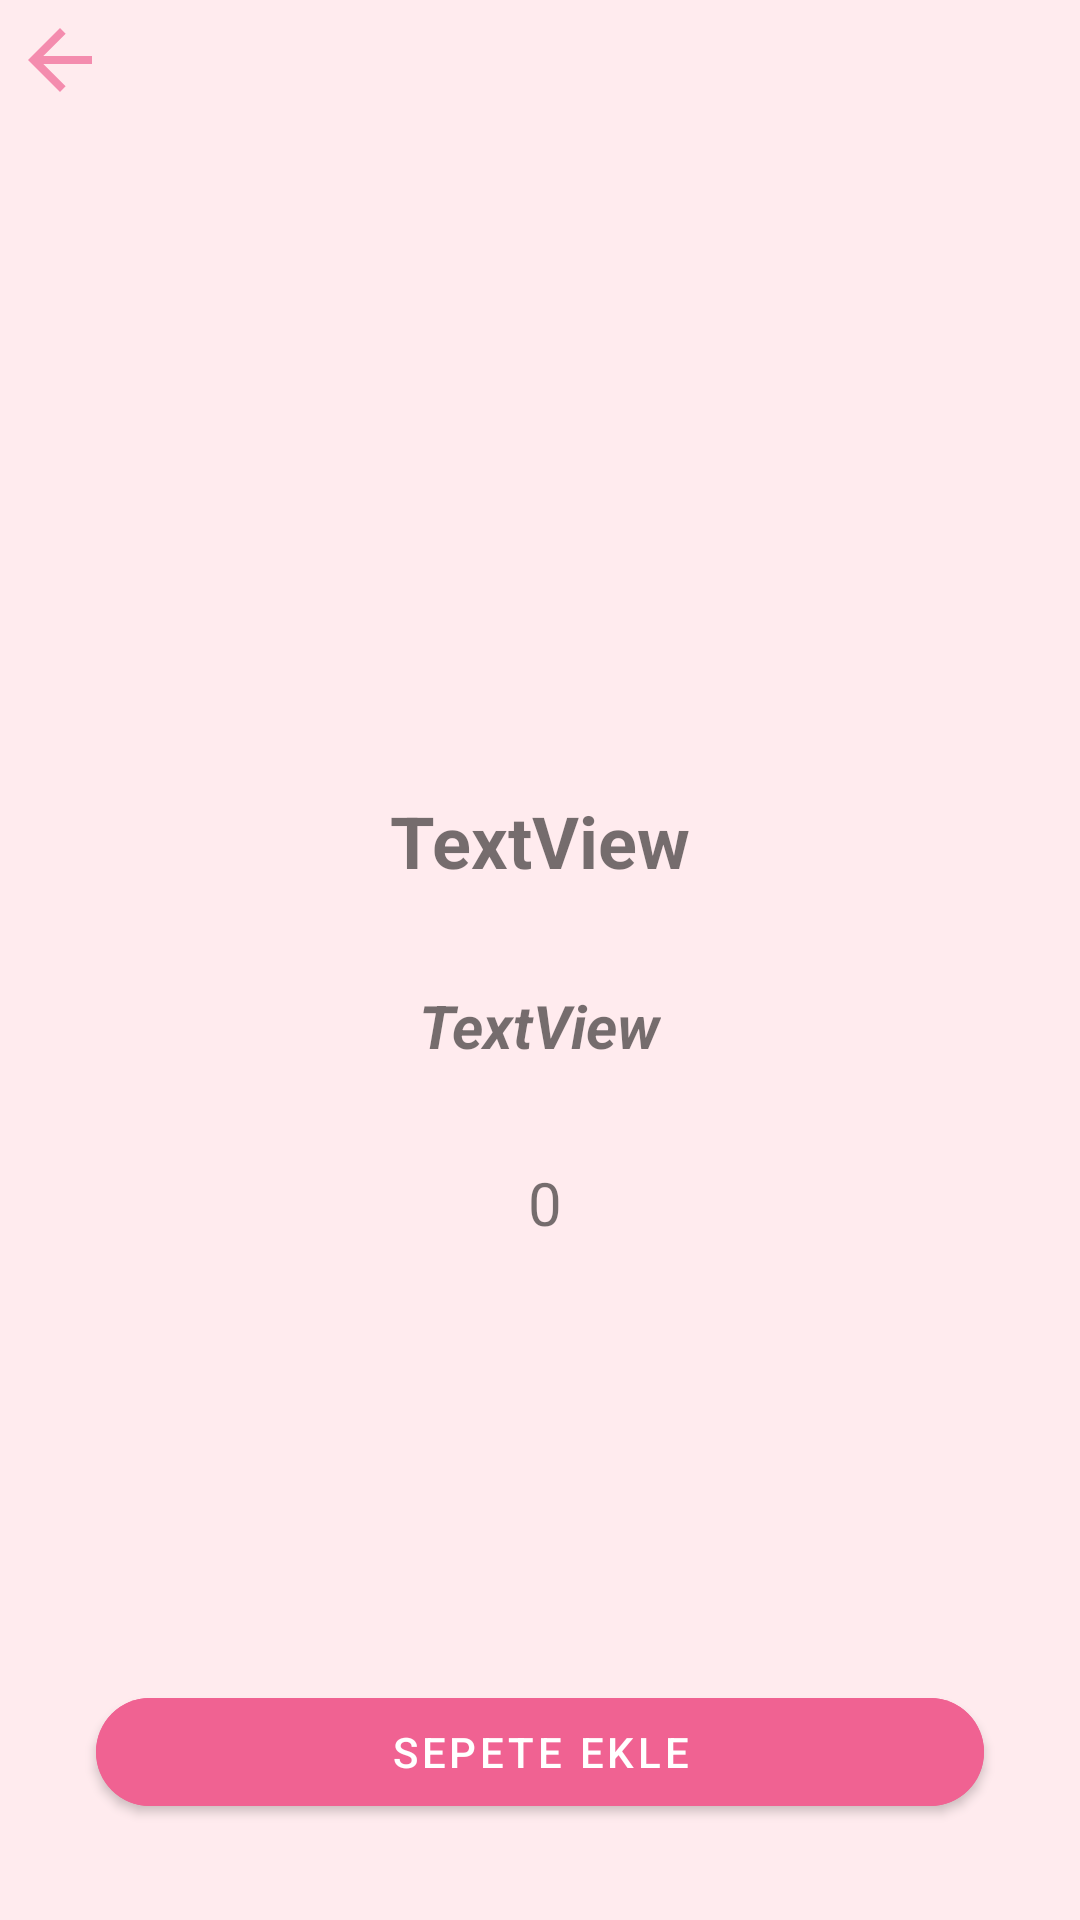

Icon bounding boxes for this 1080px x 1920px phone screenshot, format box(x1, y1, x2, y2):
arrow back: box(28, 28, 92, 92)
